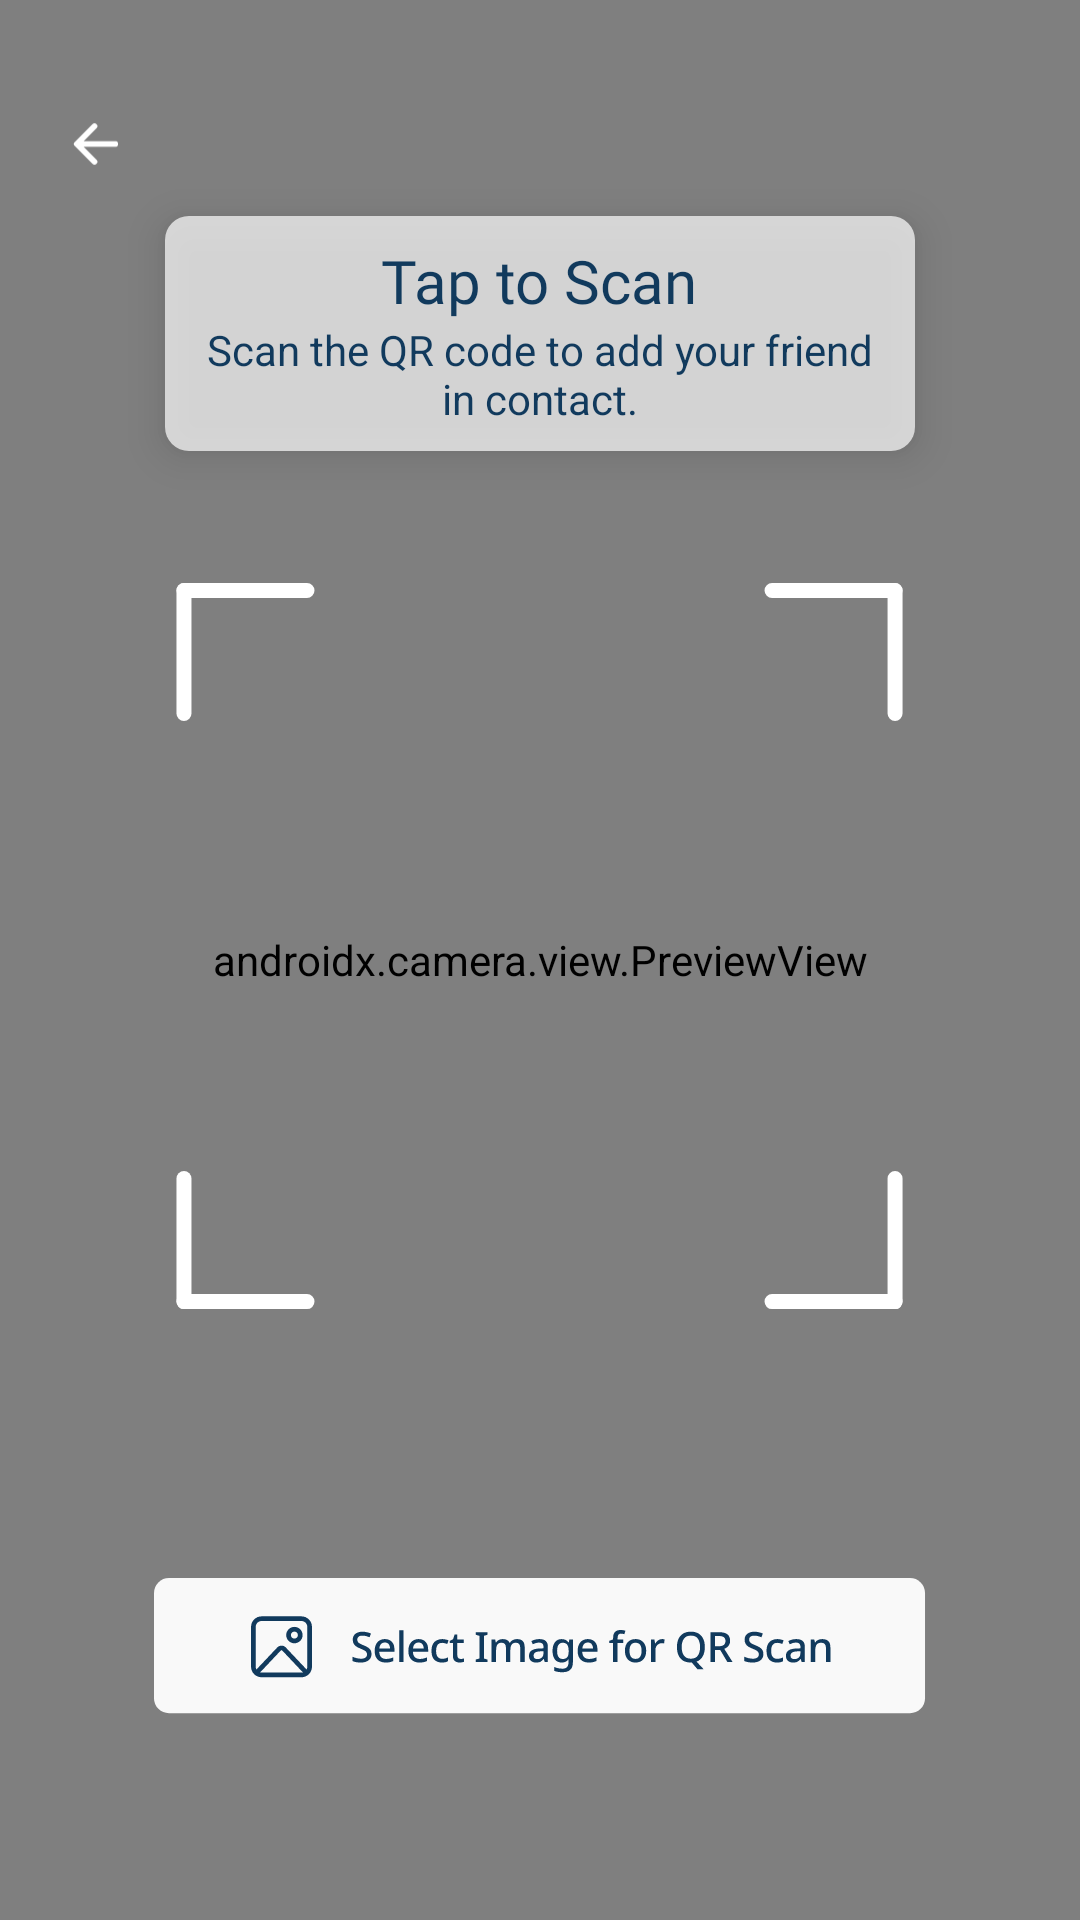

Screen size 1080x1920. Icon name, then its center in pixels as (x=x, y=y):
back: (x=96, y=144)
